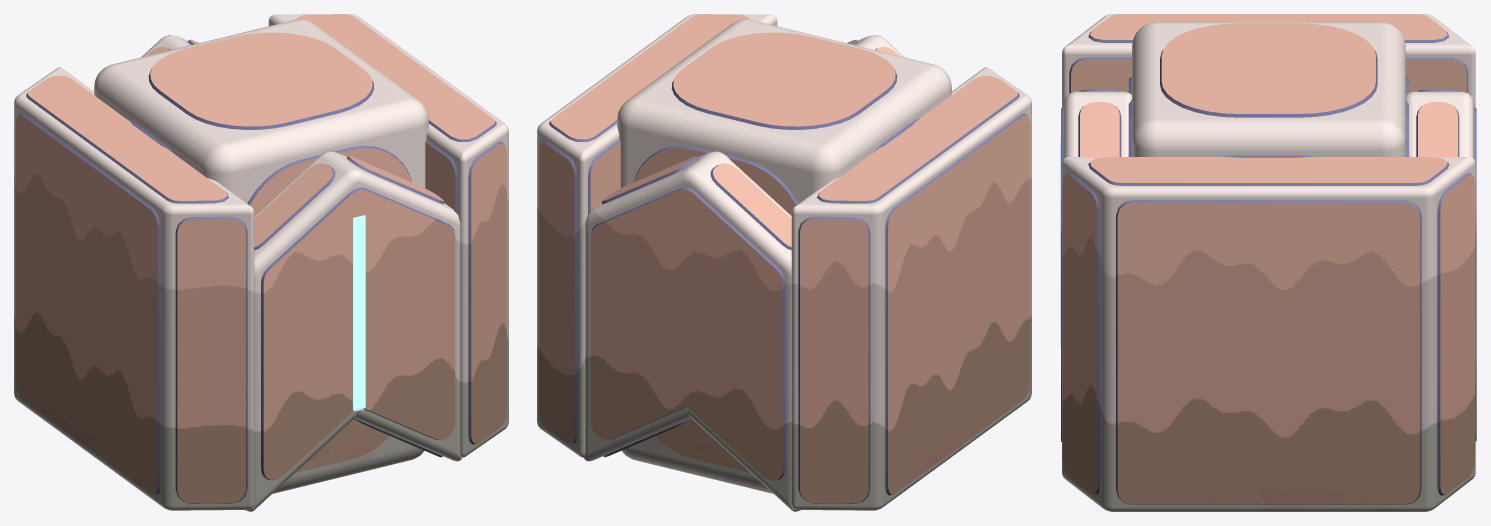
Rendered from R4X_HullBooster.glb.
3 views of the same model, side by side, from view 1: azimuth 30°, elevation 25°; view 2: azimuth 150°, elevation 25°; view 3: azimuth 270°, elevation 25° (orthographic). The views are drawn at different scales.
Parts seen in each view (by area): view 1: R4X_HullBooster_Body; view 2: R4X_HullBooster_Body; view 3: R4X_HullBooster_Body.
Boxes of the visible parts, box(x1,y1,x2,y2) form: R4X_HullBooster_Body: box(14, 14, 508, 511); R4X_HullBooster_Body: box(537, 14, 1031, 511); R4X_HullBooster_Body: box(1060, 14, 1476, 511).
Bounding box in the file's own units: 0.52 × 0.52 × 0.5053.
Materials: 4 (3 with a texture image).
